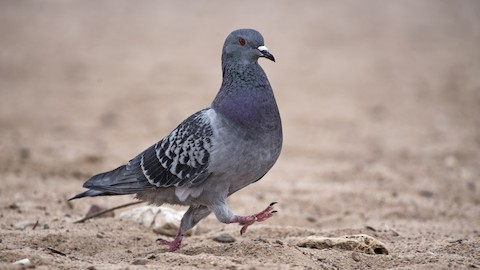pigeon: (54, 25, 291, 255)
